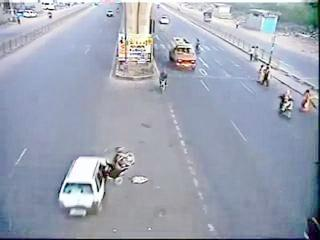Car: (37, 141, 126, 219)
Major Accident: (24, 119, 162, 227)
Motor: (85, 138, 152, 196)
